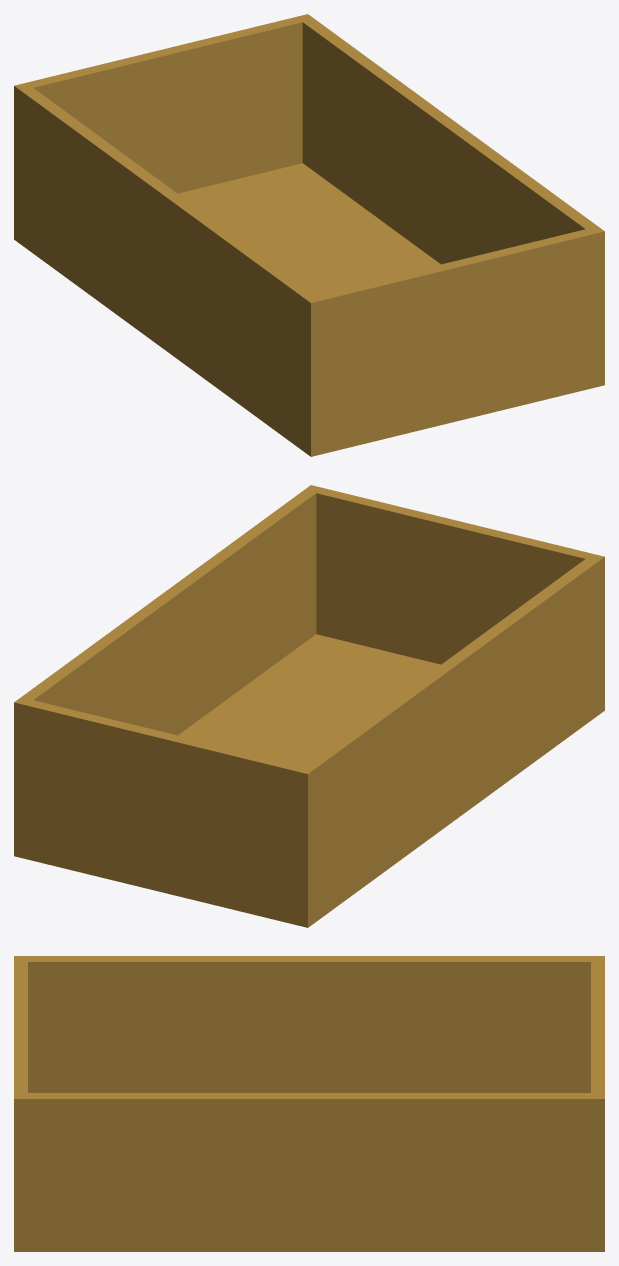
3 views of the same model, one above another, from view 1: azimuth 30°, elevation 25°; view 2: azimuth 150°, elevation 25°; view 3: azimuth 270°, elevation 25° (orthographic).
Visible parts, largest first — view 1: Cube.001, Cube.002, Cube.004, Cube.005, Cube.003; view 2: Cube.005, Cube.002, Cube.004, Cube.001, Cube.003; view 3: Cube.004, Cube.002, Cube.001, Cube.005.
Part boxes in pixels (<box>): Cube.001: <box>304,226,604,456</box>; Cube.002: <box>21,88,315,451</box>; Cube.004: <box>302,19,597,264</box>; Cube.005: <box>14,14,314,244</box>; Cube.003: <box>178,163,440,294</box>; Cube.005: <box>14,697,314,927</box>; Cube.002: <box>303,559,597,922</box>; Cube.004: <box>21,490,316,735</box>; Cube.001: <box>304,485,604,715</box>; Cube.003: <box>178,634,440,765</box>; Cube.004: <box>28,1093,590,1251</box>; Cube.002: <box>28,956,590,1092</box>; Cube.001: <box>14,956,27,1251</box>; Cube.005: <box>591,956,604,1251</box>.
Size of the model in its own units: 0.12 by 0.06 by 0.21.
